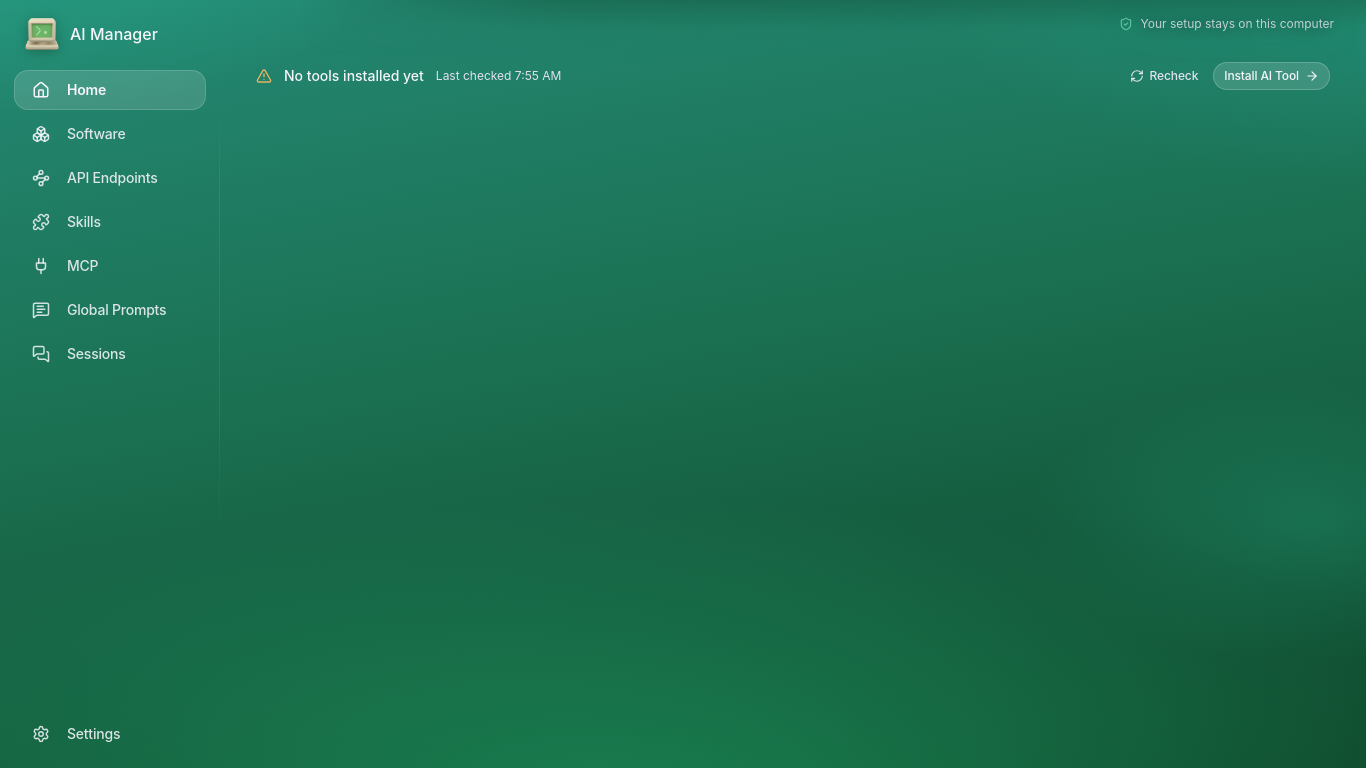
Test: AppShell › reaches local sessions directly on the Local Data page
This screenshot has width=1366, height=768.
Step 1. Click the button "Sessions" → click(110, 354), box [14,334,206,374]
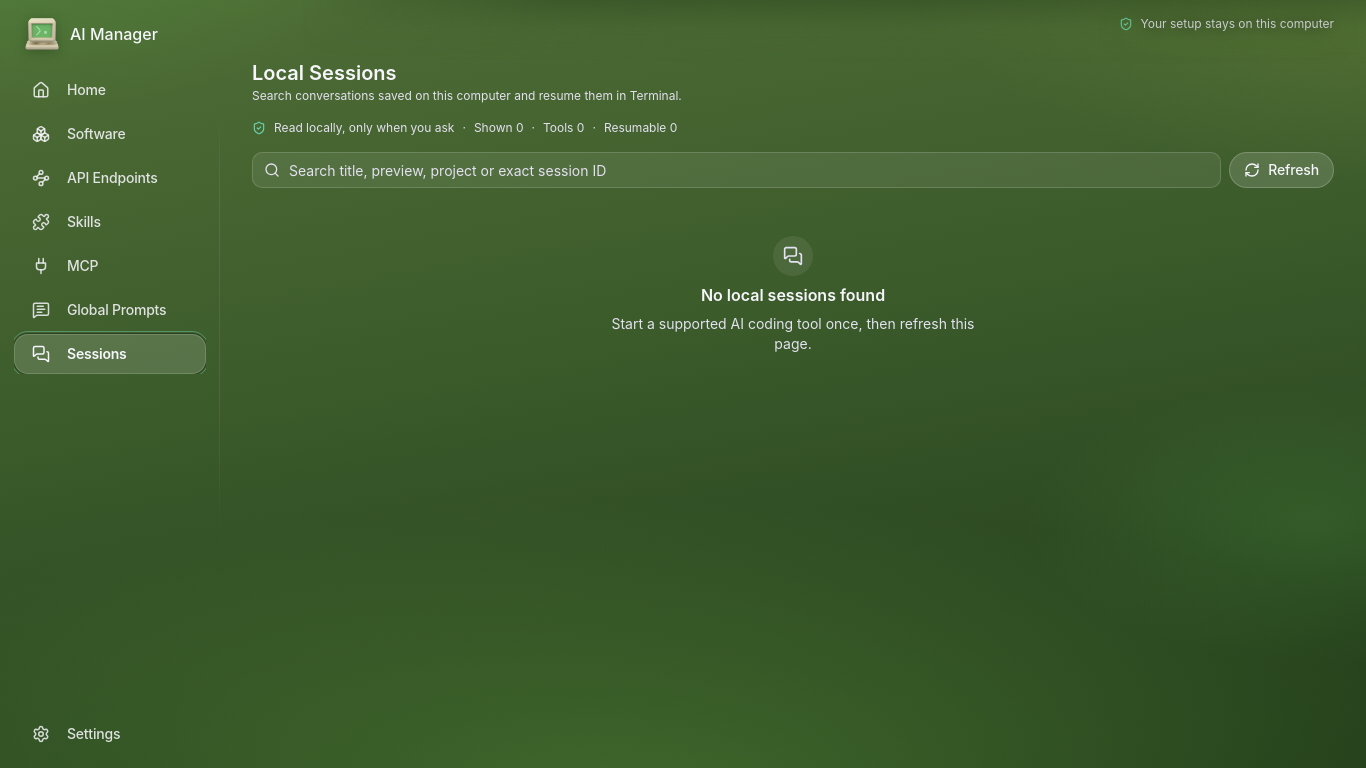
Check: the element named "Local Sessions" is shown, box [252,120,1334,386]
